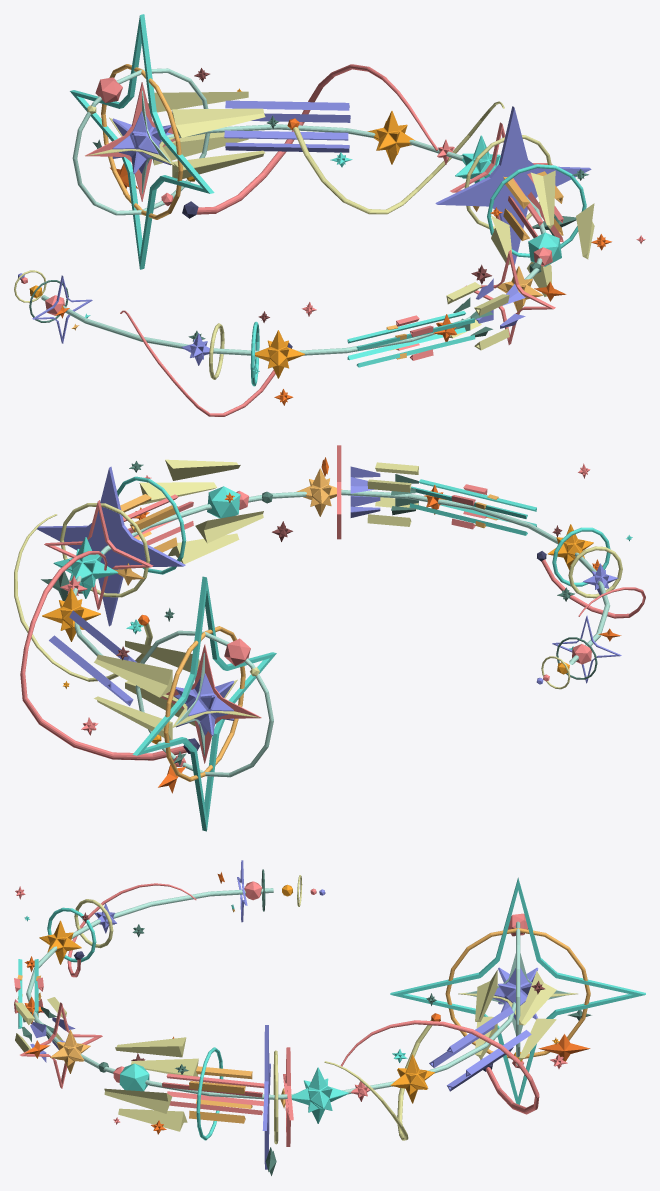
File: MilkyWay_baked.fbx
3 renders of one model, top to bottom at view 1: azimuth 30°, elevation 25°; view 2: azimuth 150°, elevation 25°; view 3: azimuth 270°, elevation 25°, orthographic. The views are drawn at different scales.
Parts seen in each view (by area): view 1: star_road1, star_ring4, star_shine1, Plane_004, star_center_ring, star_road1_001, Plane_006, Circle_010, star_ring1, star_center_star, star_ring2, Circle_012 (+14 smaller); view 2: star_ring4, star_shine1, star_road1_001, star_road1, star_center_ring, Circle_010, Plane_006, star_center_star, star_ring1, Plane_001, star_ring2, Plane_004 (+18 smaller); view 3: star_road1_001, star_shine1, star_center_ring, star_road1, Plane_005, Plane, Plane_004, Circle_010, star_ring2, star_follow3, star_center_star, star_follow1 (+16 smaller).
Part boxes in pixels (left/top/right/bottom): star_road1: left=148, top=91, right=265, bottom=178; star_ring4: left=435, top=106, right=591, bottom=265; star_shine1: left=70, top=14, right=214, bottom=269; Plane_004: left=224, top=100, right=350, bottom=152; star_center_ring: left=41, top=124, right=546, bottom=355; star_road1_001: left=491, top=170, right=594, bottom=296; Plane_006: left=347, top=311, right=475, bottom=367; Circle_010: left=196, top=64, right=438, bottom=214; star_ring1: left=72, top=68, right=210, bottom=215; star_center_star: left=112, top=110, right=171, bottom=173; star_ring2: left=101, top=64, right=183, bottom=219; Circle_012: left=293, top=101, right=504, bottom=214; star_ring4: left=37, top=466, right=185, bottom=626; star_shine1: left=132, top=576, right=276, bottom=831; star_road1_001: left=139, top=459, right=263, bottom=564; star_road1: left=94, top=640, right=199, bottom=740; star_center_ring: left=73, top=490, right=610, bottom=664; Circle_010: left=20, top=551, right=186, bottom=760; Plane_006: left=409, top=479, right=536, bottom=535; star_center_star: left=174, top=672, right=234, bottom=735; star_ring1: left=135, top=630, right=273, bottom=777; Plane_001: left=367, top=462, right=418, bottom=526; star_ring2: left=163, top=626, right=245, bottom=781; Plane_004: left=49, top=610, right=136, bottom=705; star_road1_001: left=104, top=1037, right=198, bottom=1131; star_shine1: left=390, top=877, right=645, bottom=1104; star_center_ring: left=26, top=888, right=515, bottom=1099; star_road1: left=475, top=970, right=556, bottom=1060; Plane_005: left=162, top=1073, right=264, bottom=1115; Plane: left=189, top=1066, right=252, bottom=1123; Plane_004: left=429, top=1006, right=531, bottom=1091; Circle_010: left=340, top=1020, right=539, bottom=1114; star_ring2: left=445, top=928, right=590, bottom=1058; star_follow3: left=291, top=1067, right=348, bottom=1123; star_center_star: left=493, top=967, right=538, bottom=1020; star_follow1: left=390, top=1054, right=434, bottom=1103.
Bounding box in the file's own units: 246 × 104 × 258.
